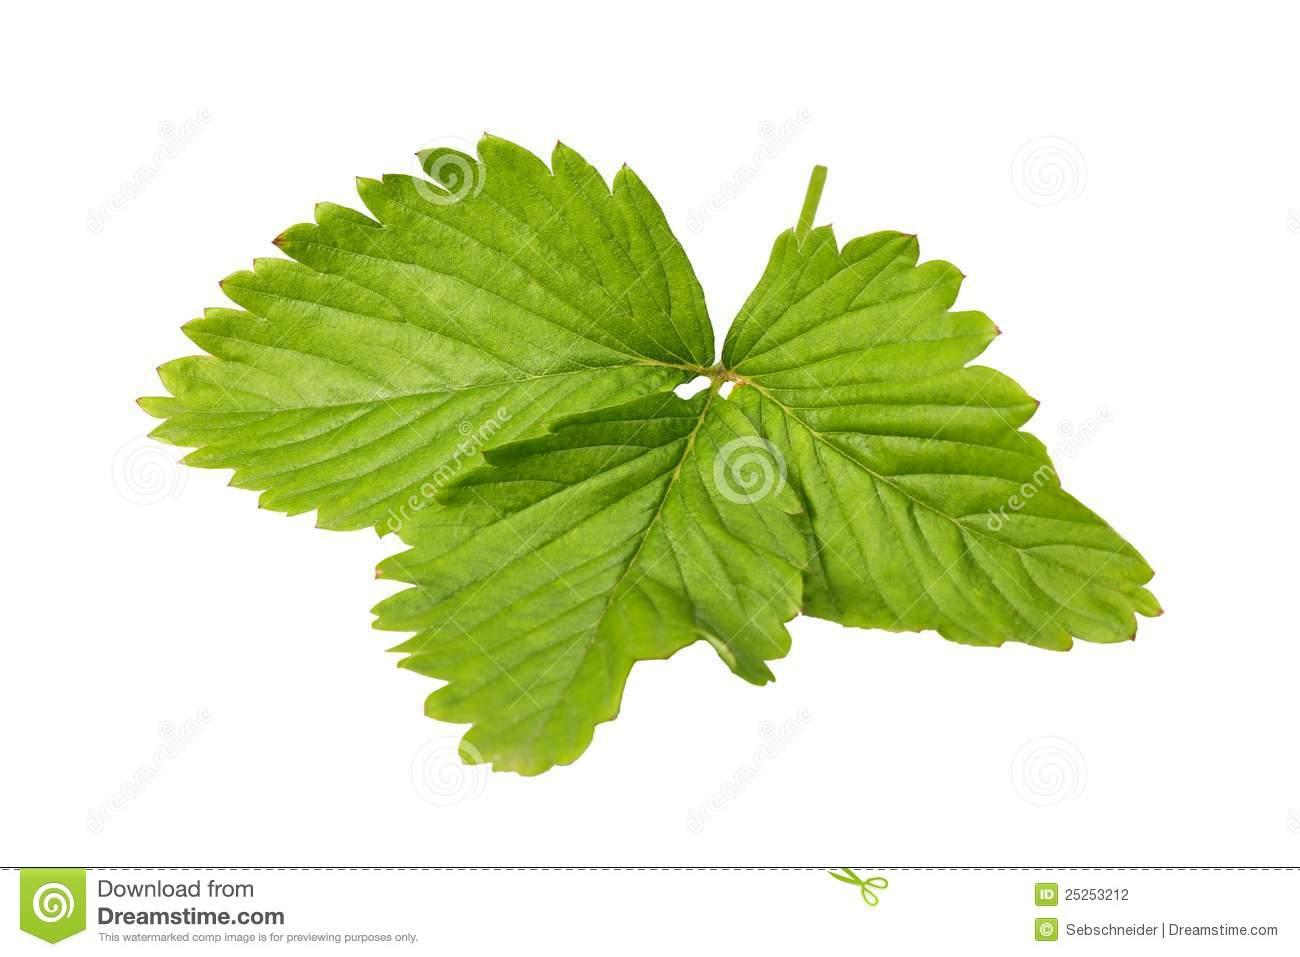Strawberry leaf: (132, 125, 717, 536), (729, 211, 1183, 677), (368, 369, 819, 780)
